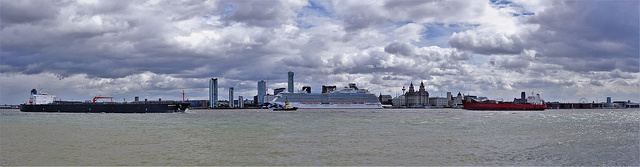cruise_ship: (258, 85, 382, 111)
tanker: (18, 92, 187, 116), (463, 94, 551, 116)
tug_boat: (272, 93, 300, 116)
